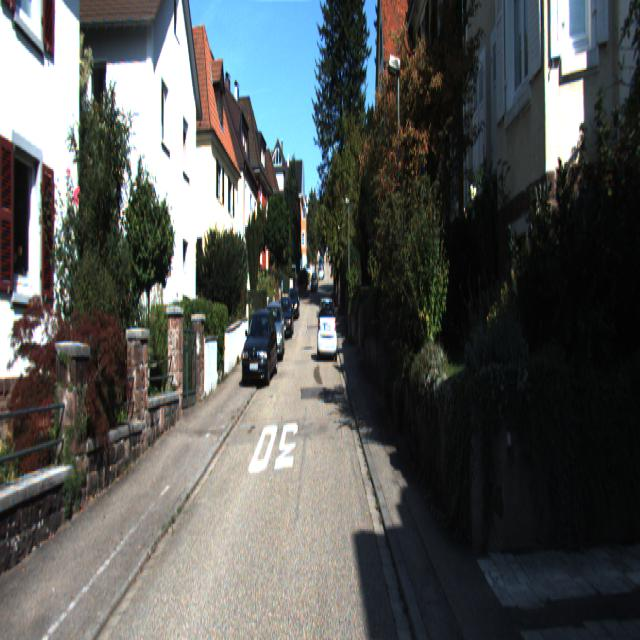Car: (241, 311, 280, 390), (264, 301, 286, 363), (317, 297, 337, 365), (276, 298, 294, 339)
